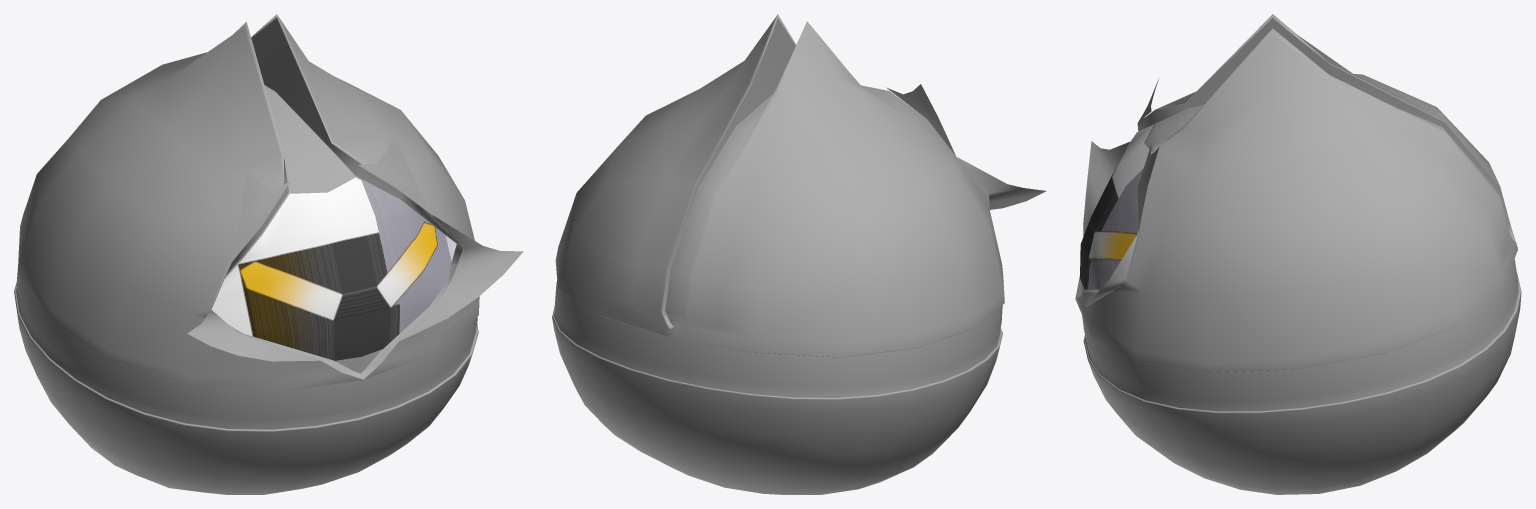
The model's file is SpiderBossBody.fbx.
The picture shows the model from 3 angles, left to right: view 1: azimuth 30°, elevation 25°; view 2: azimuth 150°, elevation 25°; view 3: azimuth 270°, elevation 25°; orthographic projection. The views are drawn at different scales.
Visible parts, largest first — view 1: body, leftcollarbottom, rightbottomcollar, righttopcollar, leftcollartop; view 2: body, rightbottomcollar, righttopcollar; view 3: body, rightbottomcollar, leftcollarbottom, leftcollartop.
Boxes of the visible parts, x1,y1,x2,y2 form: body: (14,14,479,494); leftcollarbottom: (400,214,523,340); rightbottomcollar: (187,267,319,361); righttopcollar: (231,172,290,261); leftcollartop: (358,136,430,213); body: (552,14,1004,494); rightbottomcollar: (957,157,1045,209); righttopcollar: (886,84,955,155); body: (1075,14,1521,494); rightbottomcollar: (1083,141,1129,236); leftcollarbottom: (1083,233,1138,307); leftcollartop: (1137,143,1159,231).
Size of the model in its own units: 93.81 by 104 by 94.08.
2 materials, 1 textured.
